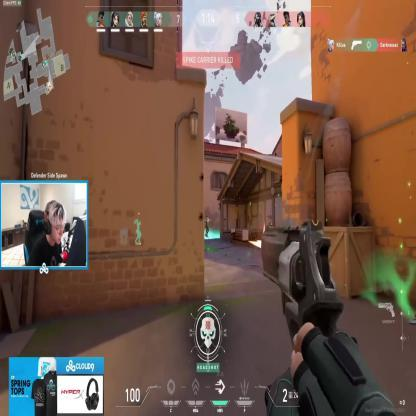enemy: (204, 214, 210, 237)
enemy_head: (206, 216, 208, 219)
